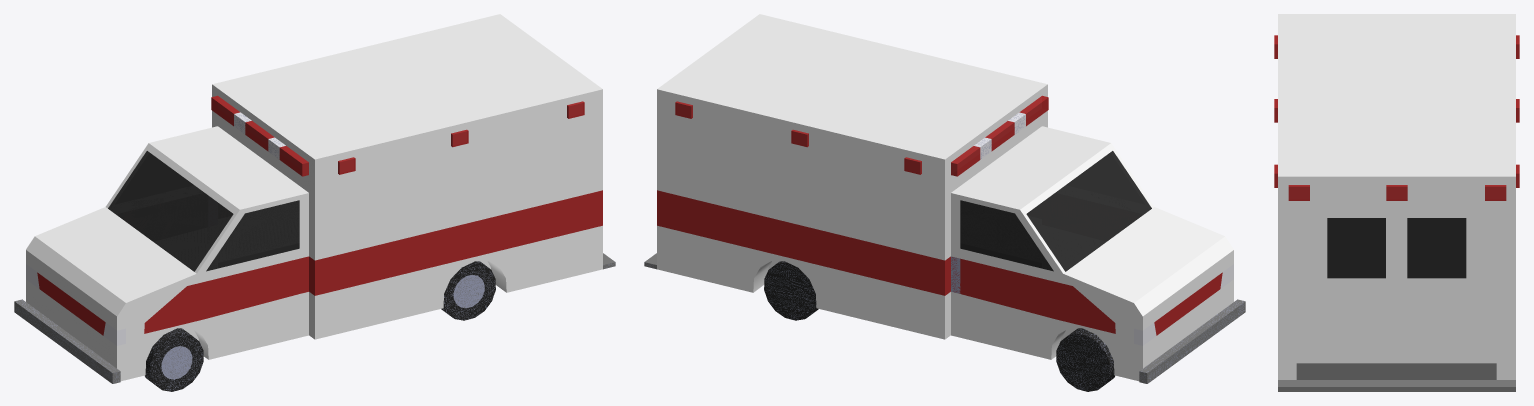
The model's file is ambulance.fbx.
The picture shows the model from 3 angles, left to right: view 1: azimuth 30°, elevation 25°; view 2: azimuth 150°, elevation 25°; view 3: azimuth 270°, elevation 25°; orthographic projection. The views are drawn at different scales.
Visible parts, largest first — view 1: Ambulance1, SUV_tire_2_2, SUV_tire_2_1; view 2: Ambulance1, SUV_tire_2_4, SUV_tire_2_3; view 3: Ambulance1, Component_13_1, Component_13_2, Component_13_3.
Part boxes in pixels (box(x1,y1,x2,y2)): Ambulance1: box(14, 14, 615, 383); SUV_tire_2_2: box(145, 328, 203, 391); SUV_tire_2_1: box(441, 261, 495, 320); Ambulance1: box(644, 14, 1245, 383); SUV_tire_2_4: box(1056, 328, 1114, 391); SUV_tire_2_3: box(764, 261, 818, 320); Ambulance1: box(1278, 14, 1515, 391); Component_13_1: box(1288, 185, 1309, 200); Component_13_2: box(1485, 185, 1506, 200); Component_13_3: box(1386, 185, 1407, 200).
Size of the model in its own units: 6.36 by 2.46 by 2.33.
